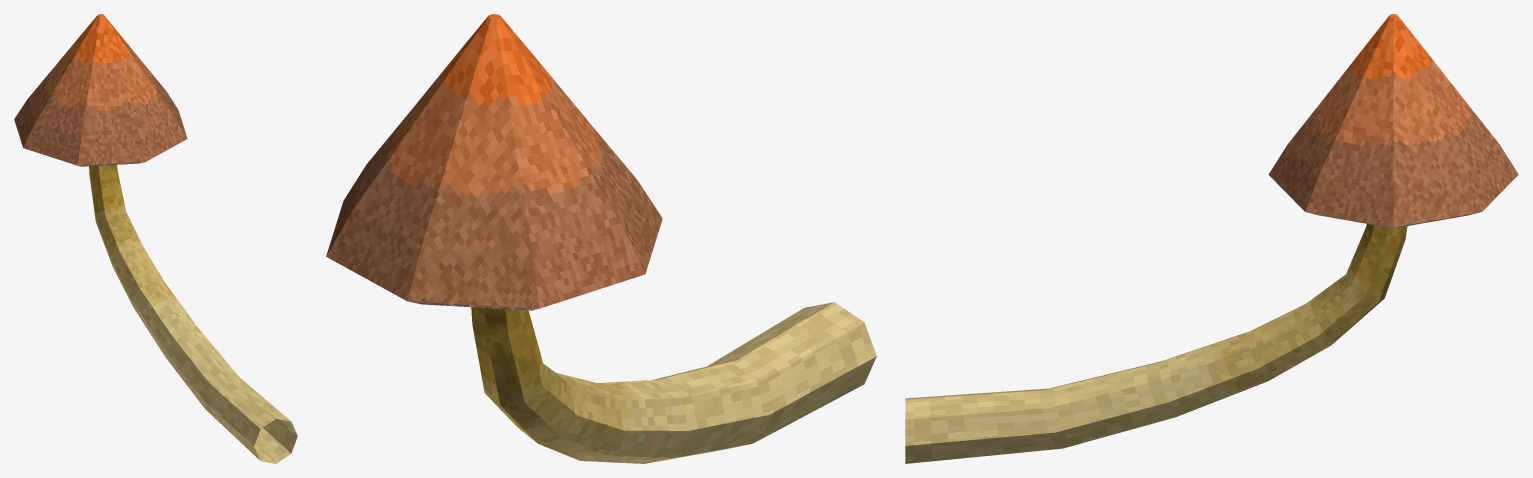
File: Mushroom_Curve.fbx
The picture shows the model from 3 angles, left to right: view 1: azimuth 30°, elevation 25°; view 2: azimuth 150°, elevation 25°; view 3: azimuth 270°, elevation 25°; orthographic projection. The views are drawn at different scales.
Parts seen in each view (by area): view 1: pCylinder3; view 2: pCylinder3; view 3: pCylinder3.
Boxes of the visible parts, x1,y1,x2,y2 form: pCylinder3: [14, 14, 297, 463]; pCylinder3: [326, 14, 876, 463]; pCylinder3: [905, 14, 1518, 463].
Bounding box in the file's own units: 0.431 × 0.8487 × 1.06.
